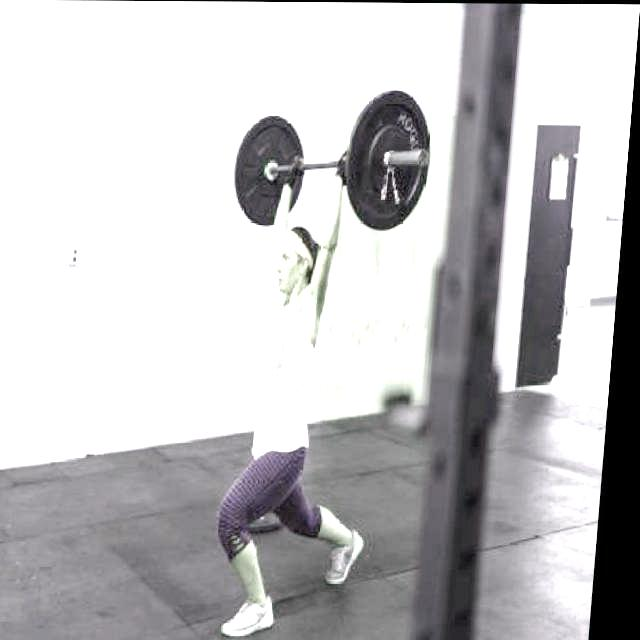barbell: (330, 88, 439, 235)
